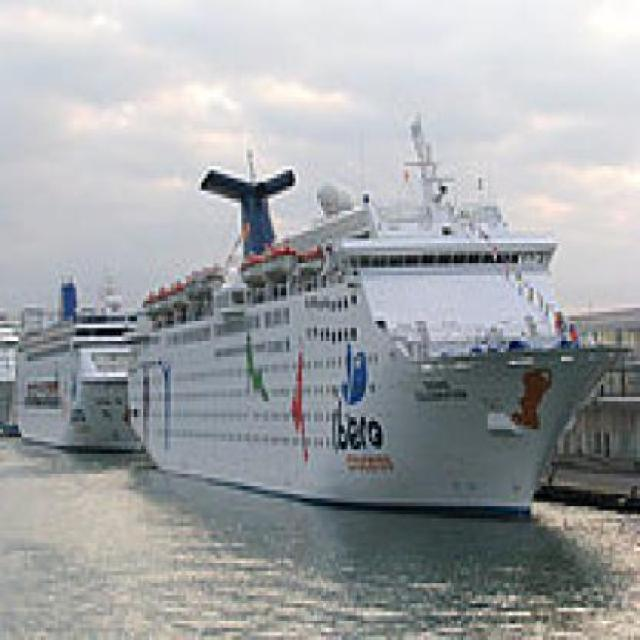cruise: (107, 155, 635, 536), (1, 252, 169, 459)
